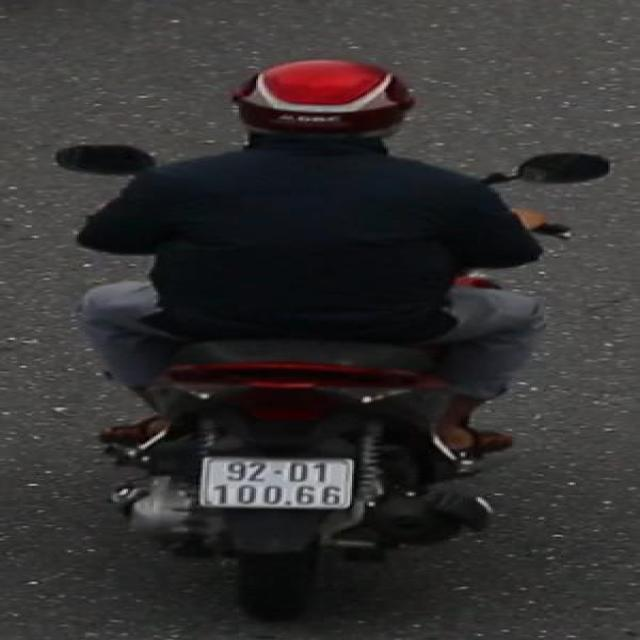LP: (191, 452, 362, 515)
helmet: (232, 53, 422, 148)
